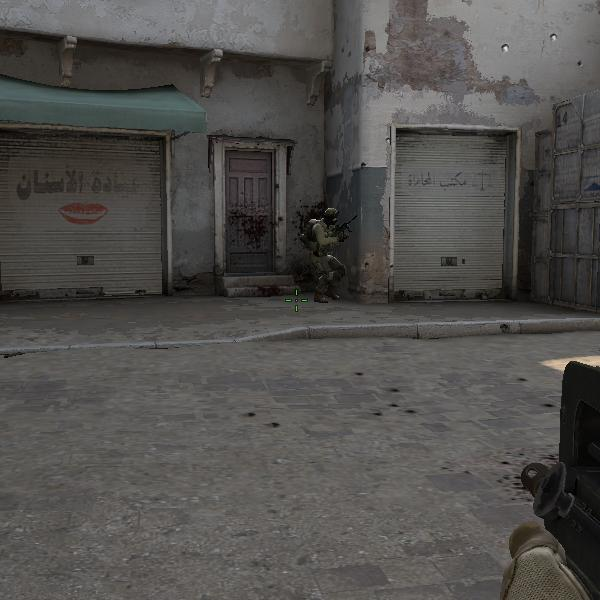ct_body: (301, 205, 356, 308)
ct_head: (319, 206, 341, 229)
